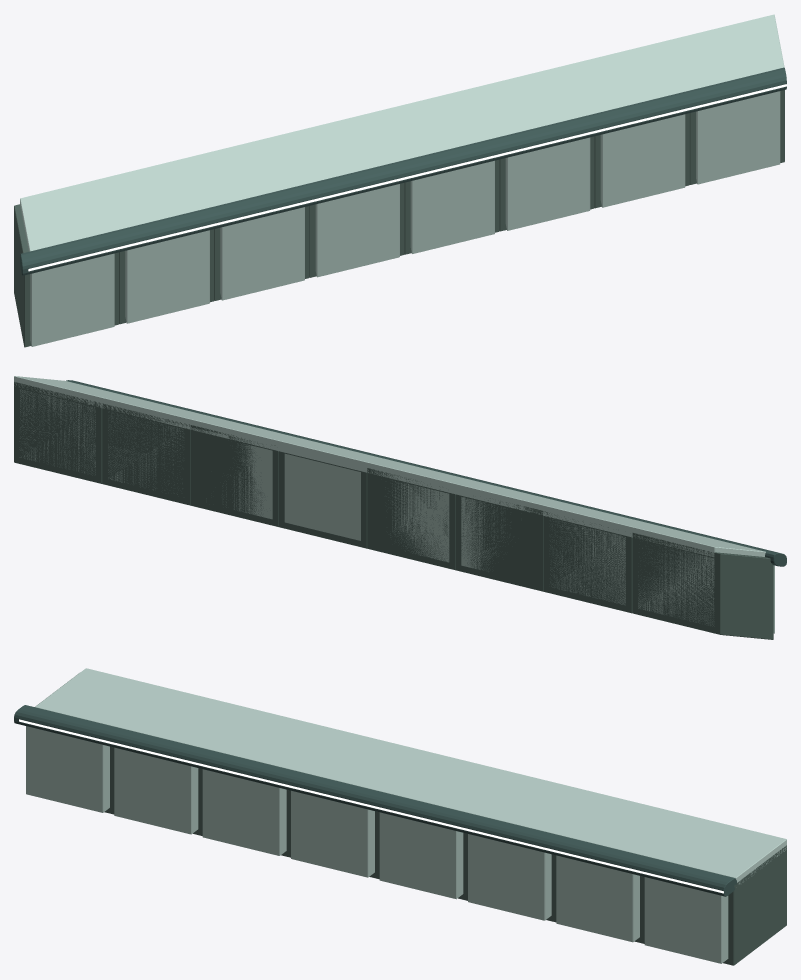
File: Terrain_TopRun8L.gltf
3 renders of one model, top to bottom at view 1: azimuth 30°, elevation 25°; view 2: azimuth 150°, elevation 25°; view 3: azimuth 330°, elevation 25°, orthographic. The views are drawn at different scales.
Visible parts, largest first — view 1: Terrain_TopRun8L_baked; view 2: Terrain_TopRun8L_baked; view 3: Terrain_TopRun8L_baked.
Boxes of the visible parts, bbox=[...] form: Terrain_TopRun8L_baked: bbox=[14, 14, 786, 347]; Terrain_TopRun8L_baked: bbox=[14, 376, 786, 639]; Terrain_TopRun8L_baked: bbox=[14, 668, 786, 965].
Bounding box in the file's own units: 8.33 × 1.18 × 0.74.
